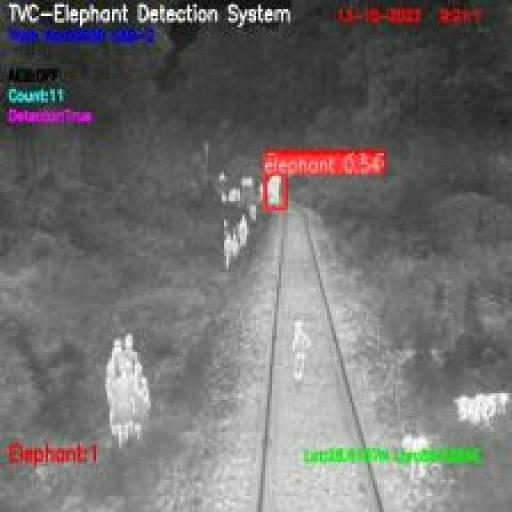Elephant: (265, 174, 286, 208)
